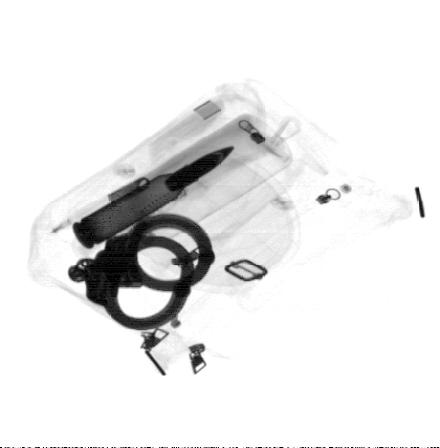Bullet: (70, 144, 235, 250)
HandCuffs: (69, 214, 217, 331)
